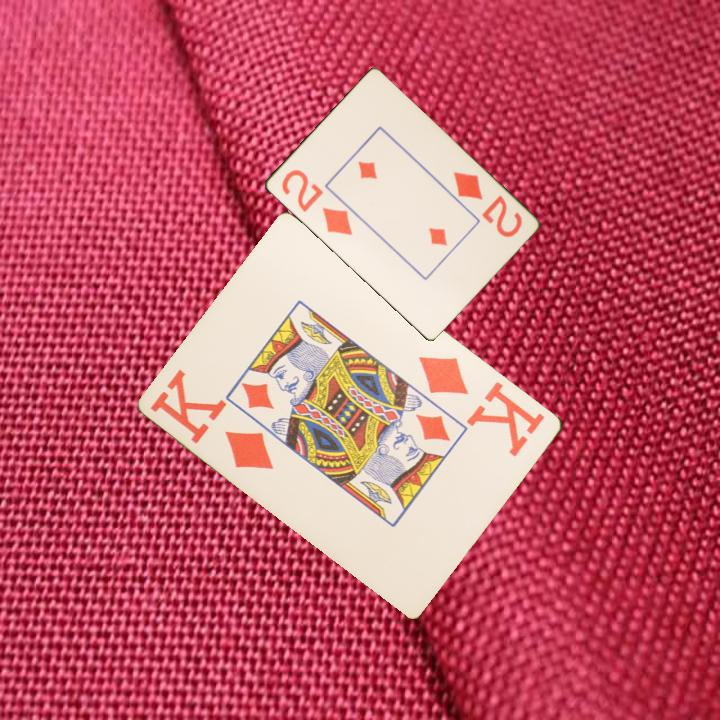2d: (277, 166, 355, 239), (449, 168, 525, 240)
Kd: (415, 352, 548, 460), (146, 366, 277, 473)
